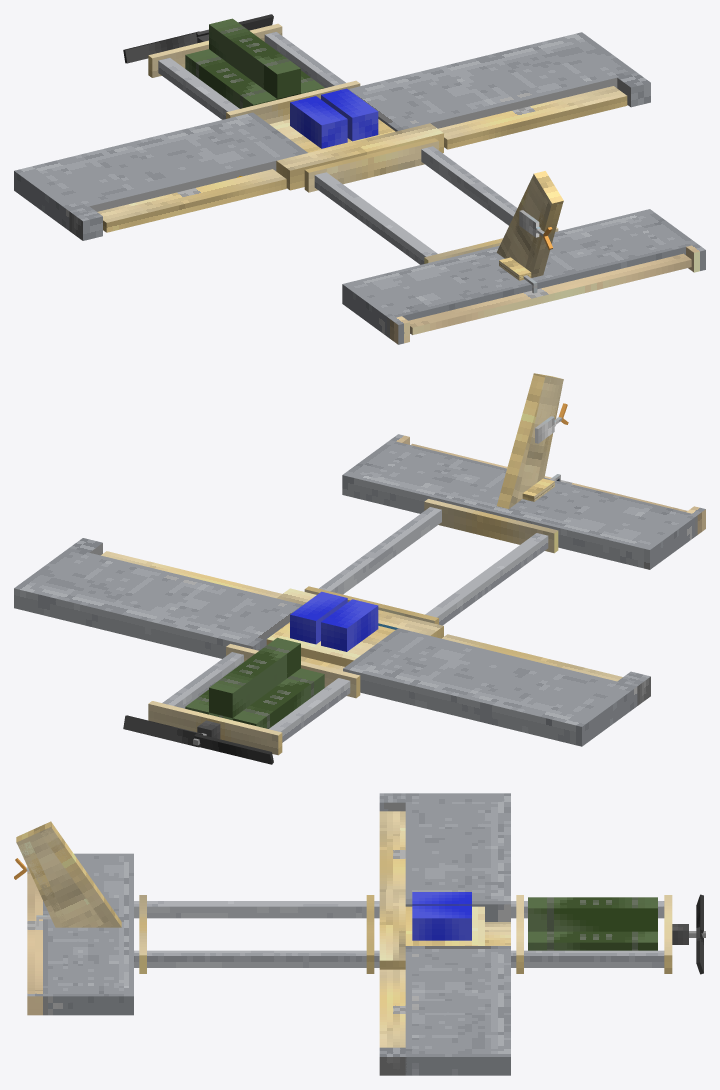
File: molniya.glb
3 renders of one model, top to bottom at view 1: azimuth 30°, elevation 25°; view 2: azimuth 150°, elevation 25°; view 3: azimuth 270°, elevation 25°, orthographic. The views are drawn at different scales.
Visible parts, largest first — view 1: airframe, prop1; view 2: airframe, prop1; view 3: airframe, prop1.
Boxes of the visible parts, x1=… form: airframe: x1=14, y1=18, x2=705, y2=344; prop1: x1=123, y1=14, x2=273, y2=63; airframe: x1=14, y1=373, x2=705, y2=755; prop1: x1=123, y1=715, x2=273, y2=764; airframe: x1=14, y1=793, x2=705, y2=1075; prop1: x1=696, y1=894, x2=703, y2=974.
Bounding box in the file's own units: 3 × 0.667 × 3.33.
Materials: 1 (1 with a texture image).
